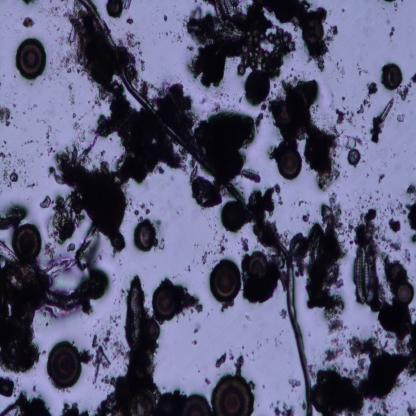Background material: (88, 81, 185, 181), (48, 142, 130, 249), (272, 76, 345, 187), (260, 0, 340, 75), (305, 192, 346, 334), (200, 102, 262, 185), (67, 9, 122, 89), (182, 12, 228, 87), (0, 292, 41, 374), (319, 329, 380, 372), (248, 185, 284, 248), (90, 314, 120, 380), (118, 15, 148, 74), (350, 198, 386, 242), (48, 0, 68, 77), (369, 97, 395, 144), (0, 394, 54, 415), (178, 283, 203, 326), (190, 180, 223, 212), (243, 278, 282, 304), (198, 233, 230, 264), (68, 86, 86, 140), (381, 249, 411, 280), (381, 190, 407, 221), (90, 346, 110, 386), (0, 202, 31, 225), (0, 141, 22, 171), (398, 72, 416, 101), (405, 197, 416, 244), (59, 401, 91, 415), (132, 199, 152, 220), (270, 398, 296, 414), (229, 356, 247, 378), (374, 172, 390, 190), (345, 133, 360, 150), (274, 184, 285, 207), (334, 108, 348, 126), (79, 348, 94, 364), (287, 374, 303, 389), (0, 109, 12, 128), (38, 194, 52, 210), (21, 132, 36, 146), (387, 216, 400, 232), (165, 32, 182, 44), (185, 38, 196, 56), (404, 183, 416, 197), (8, 170, 20, 184), (406, 398, 416, 414), (368, 82, 380, 95), (240, 237, 249, 252), (46, 119, 52, 140), (278, 310, 288, 322), (355, 61, 363, 76), (302, 212, 312, 224), (202, 374, 212, 386), (390, 20, 395, 43), (23, 18, 35, 27), (357, 103, 365, 115), (22, 0, 36, 6), (29, 181, 39, 189), (193, 325, 200, 336), (191, 338, 199, 346), (31, 385, 38, 392), (164, 12, 168, 22)
Cellulose filter fibre: (0, 240, 90, 307), (44, 222, 98, 276)
Diatom: (228, 26, 297, 74), (210, 374, 256, 416), (47, 340, 82, 392), (125, 271, 144, 356), (366, 352, 400, 399), (353, 242, 377, 305), (312, 370, 346, 413), (16, 36, 48, 81), (210, 259, 242, 302), (12, 224, 42, 260), (212, 1, 242, 36), (275, 144, 303, 180), (151, 284, 178, 320), (132, 218, 158, 253), (246, 70, 272, 104), (221, 200, 247, 232), (242, 251, 270, 280), (290, 232, 308, 274), (378, 301, 400, 334), (184, 390, 210, 415), (382, 63, 404, 91), (86, 273, 108, 299), (395, 283, 415, 304), (105, 0, 126, 20), (144, 320, 162, 341), (0, 376, 15, 397), (347, 150, 361, 166), (215, 353, 228, 369), (188, 165, 198, 182)
Microfibre: (82, 1, 316, 413)
